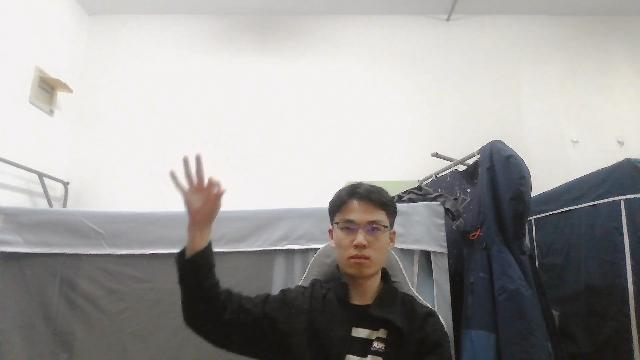ok: (164, 148, 228, 237)
